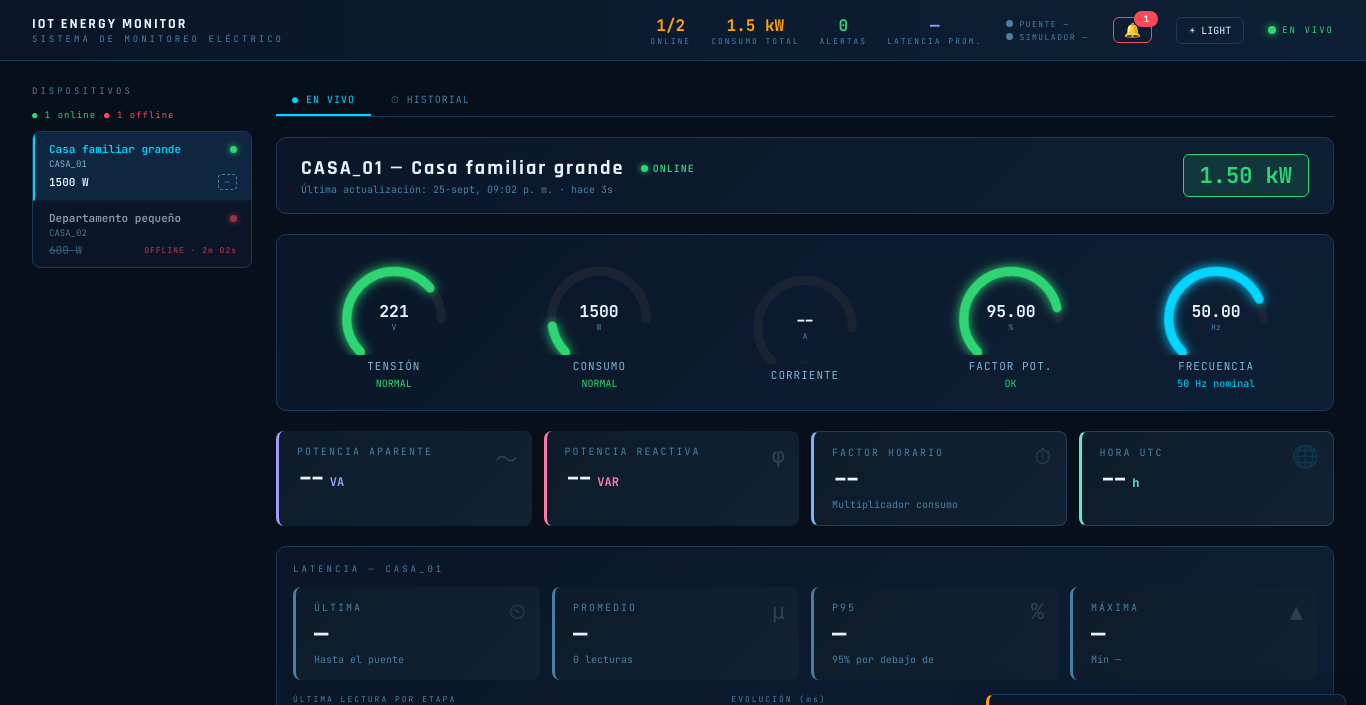
it: centro de notificaciones: abre, muestra el resumen inicial y marca leídas
Click the button named "Notificaciones (1 sin leer)" at (1132, 30), box [1113,17,1152,43]
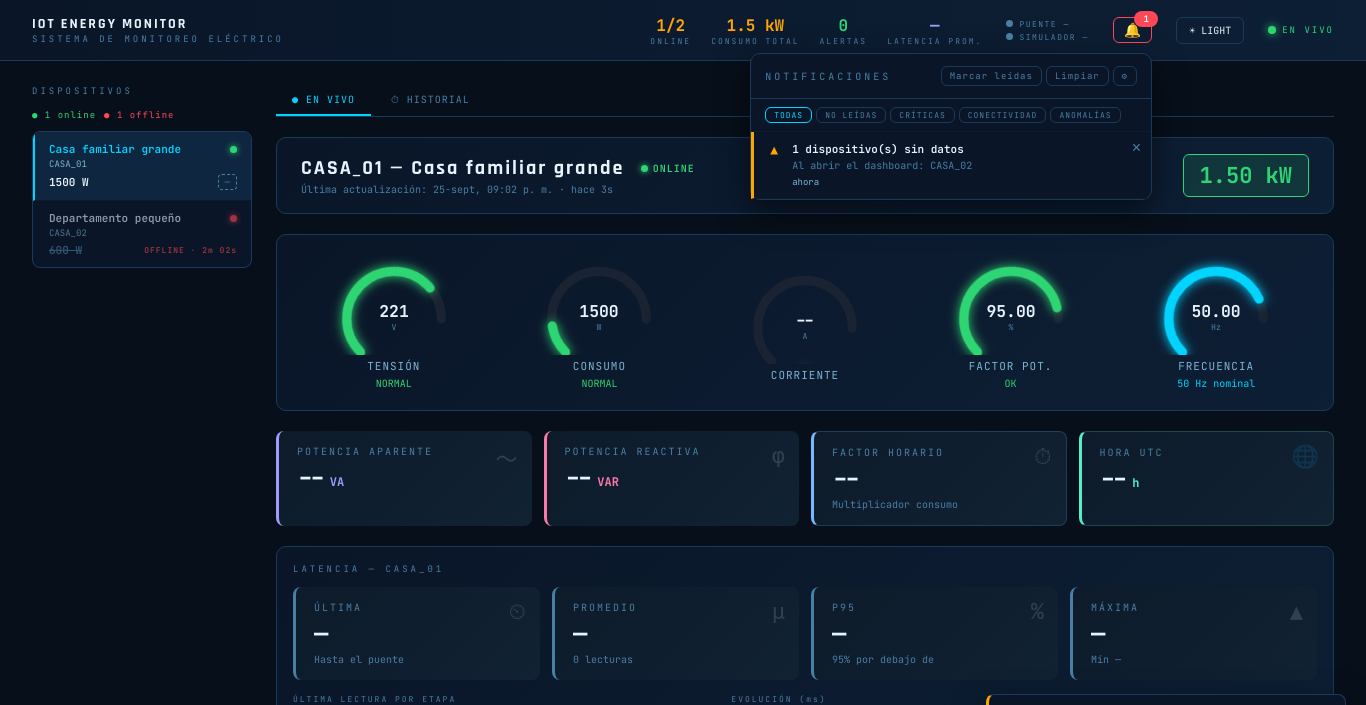
Now the text "1 dispositivo(s) sin datos" below "NOTIFICACIONES" is shown, box [792,142,964,156]
Click the button "Marcar leídas" at (991, 76), box [941,66,1042,86]
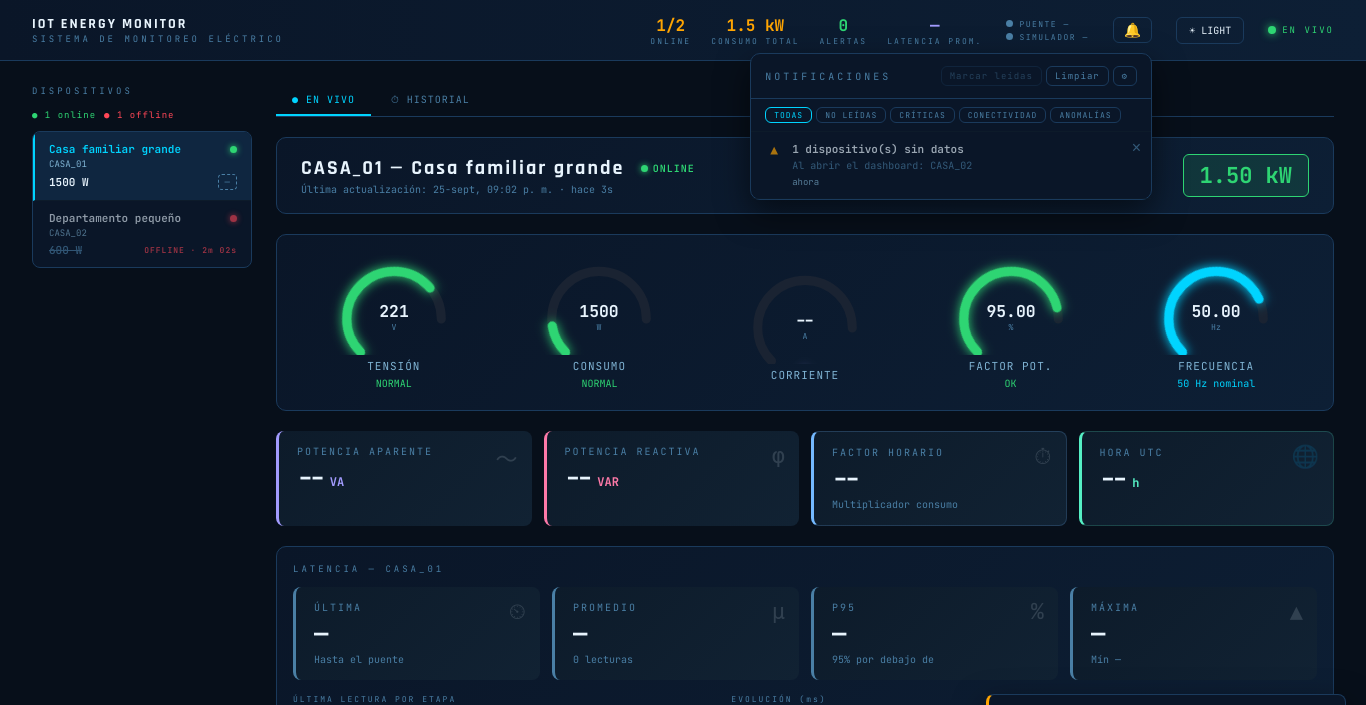
Now the button named "Notificaciones (0 sin leer)" is shown, box [1113,17,1152,43]
